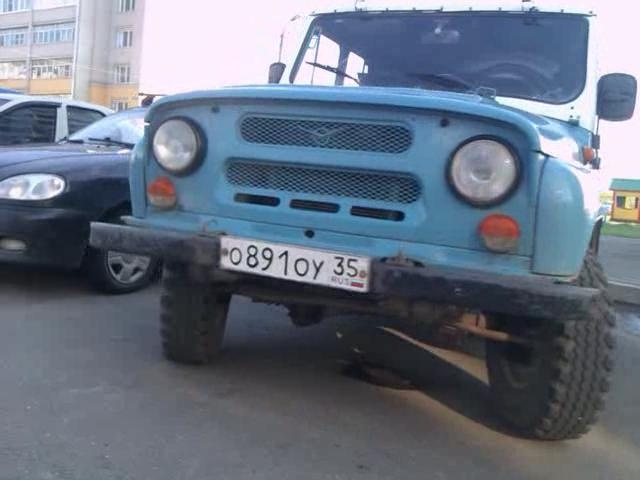car license plate: (213, 230, 376, 303)
